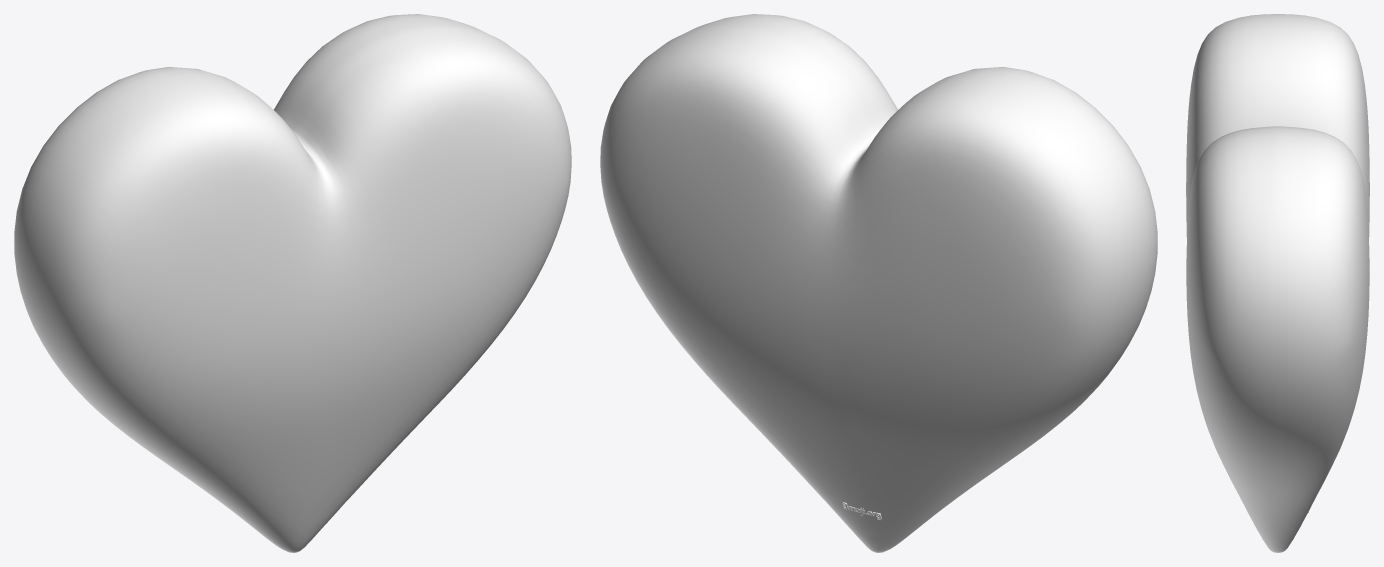
File: white_heart.glb
3 views of the same model, side by side, from view 1: azimuth 30°, elevation 25°; view 2: azimuth 150°, elevation 25°; view 3: azimuth 270°, elevation 25° (orthographic). The views are drawn at different scales.
Parts seen in each view (by area): view 1: hfdjkslfjkds.026; view 2: hfdjkslfjkds.026; view 3: hfdjkslfjkds.026.
Boxes of the visible parts, x1,y1,x2,y2 form: hfdjkslfjkds.026: [14, 14, 571, 552]; hfdjkslfjkds.026: [600, 14, 1157, 552]; hfdjkslfjkds.026: [1186, 14, 1369, 552].
Size of the model in its own units: 1.86 by 1.68 by 0.5956.
1 material, 1 textured.
